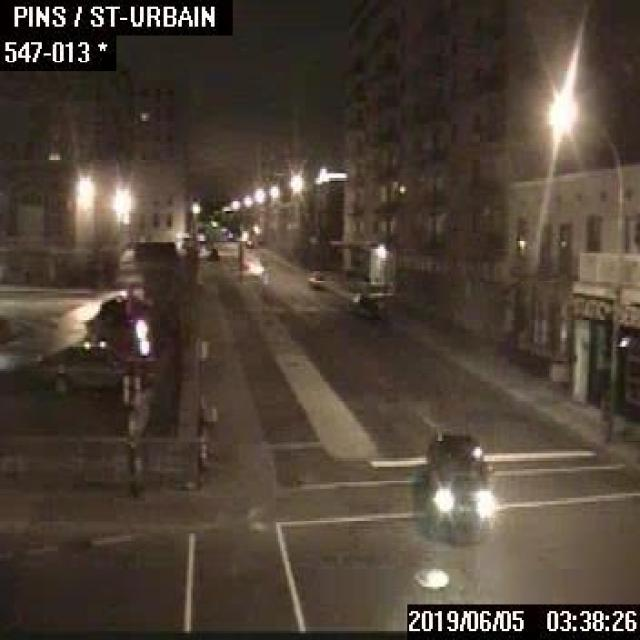vehicle: (420, 429, 493, 540), (36, 342, 146, 399), (82, 294, 158, 342), (347, 292, 378, 317), (306, 267, 326, 289)
